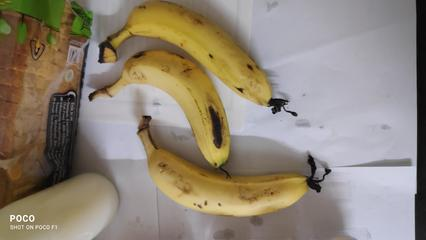banana: (112, 11, 302, 140), (134, 117, 315, 214)
